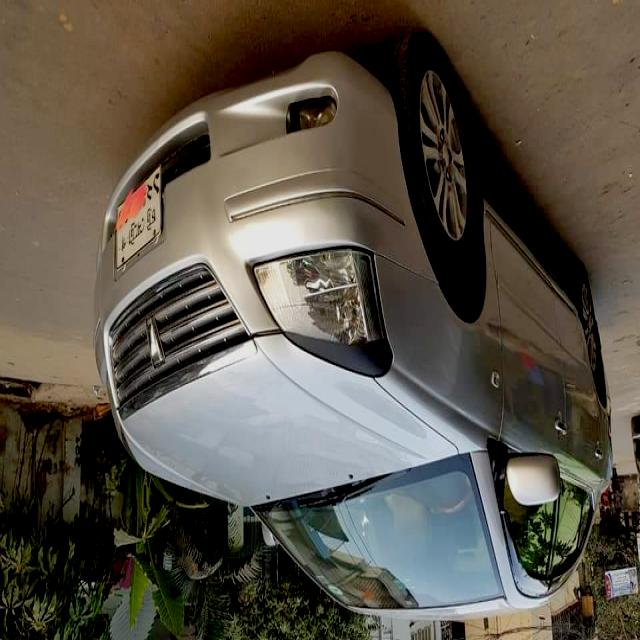silver: (98, 54, 615, 600)
